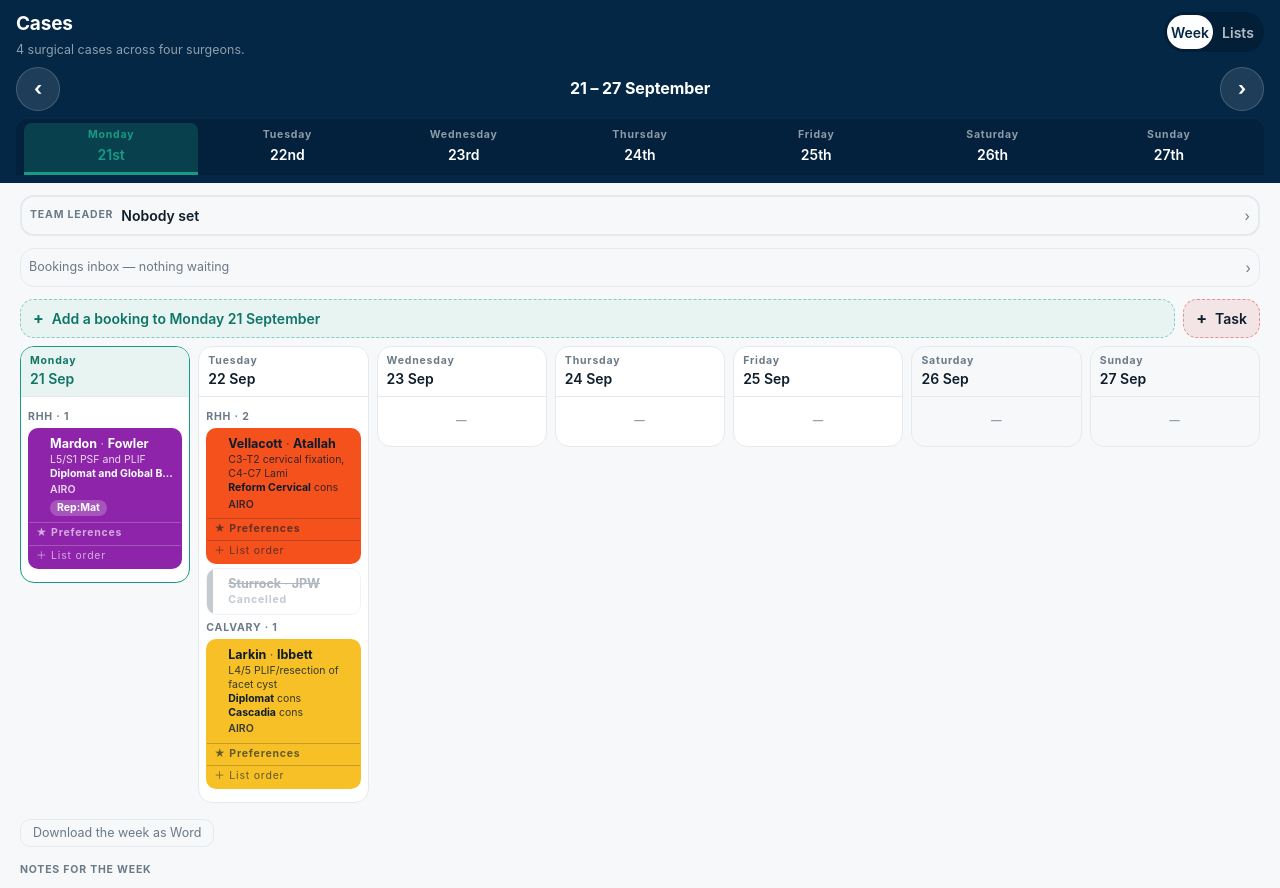
Test: the header › only offers a way back to today when you have left it
Check: the text "Mardon" is shown, box [50,436,97,451]
Check: the text "Back to today" is not shown
Click the button named "Next week".
click(1242, 89)  # box [1220,67,1264,111]
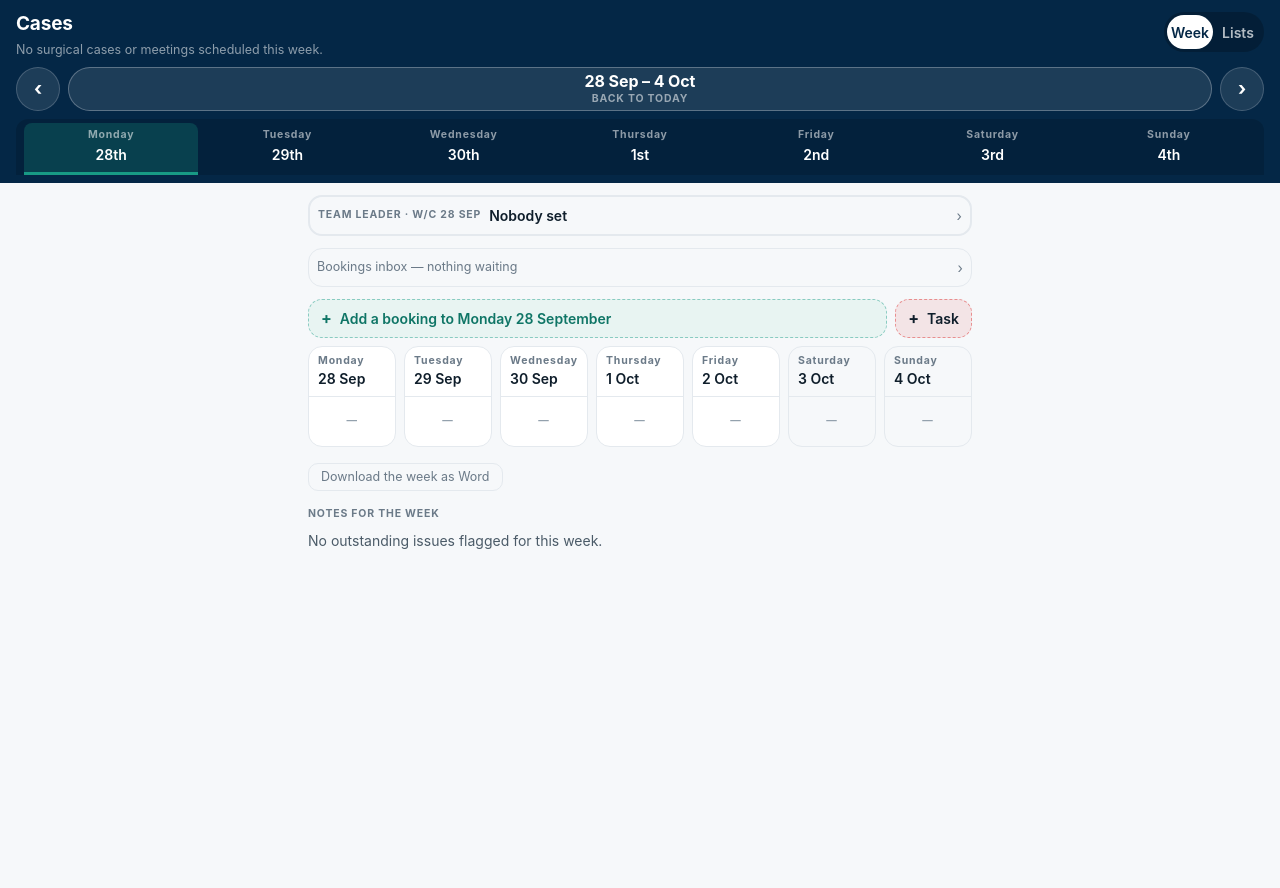
Check: the text "Back to today" is shown, box [592,92,688,107]
